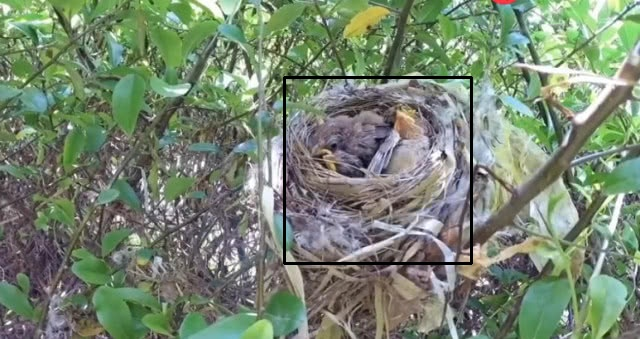bird-nest: (266, 71, 498, 324)
